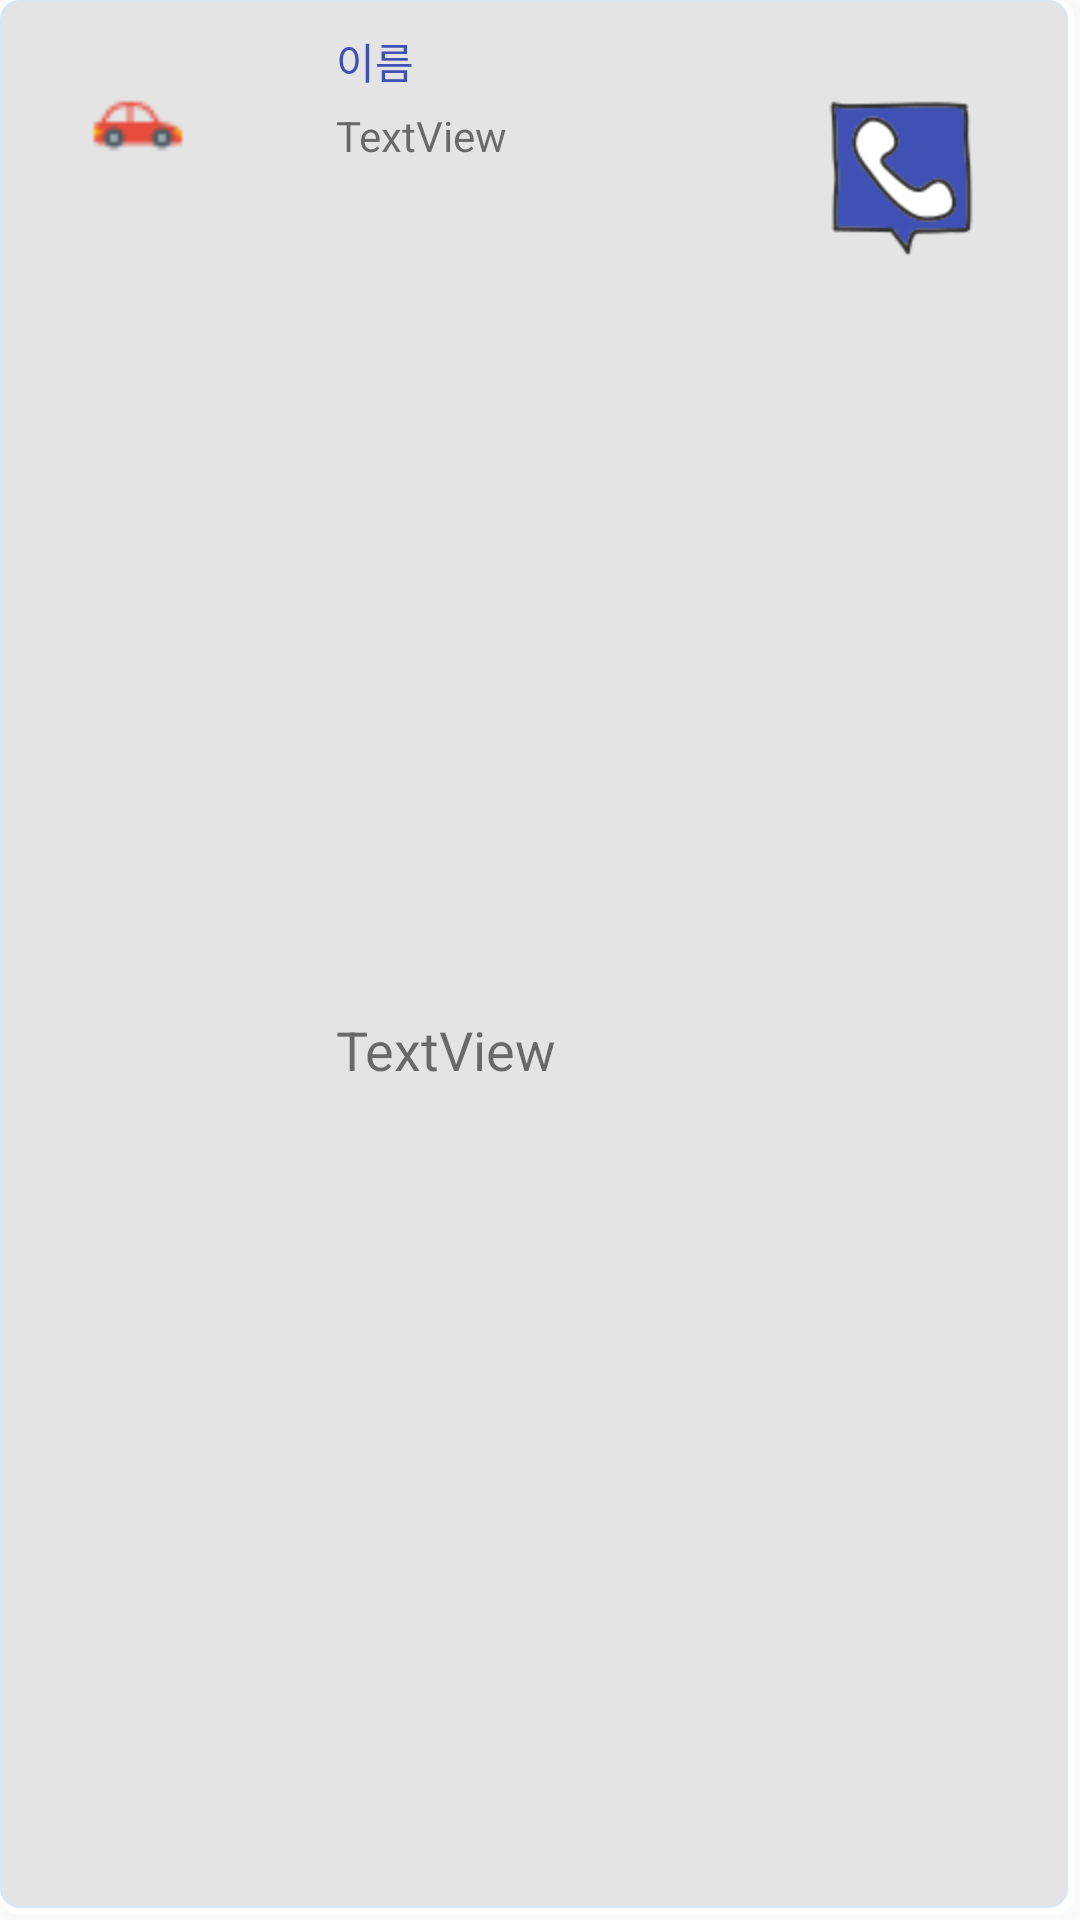

Named icons in this screenshot (1080x1920) and their centers, (x=x, y=y):
call: (x=901, y=178)
car: (x=138, y=125)
